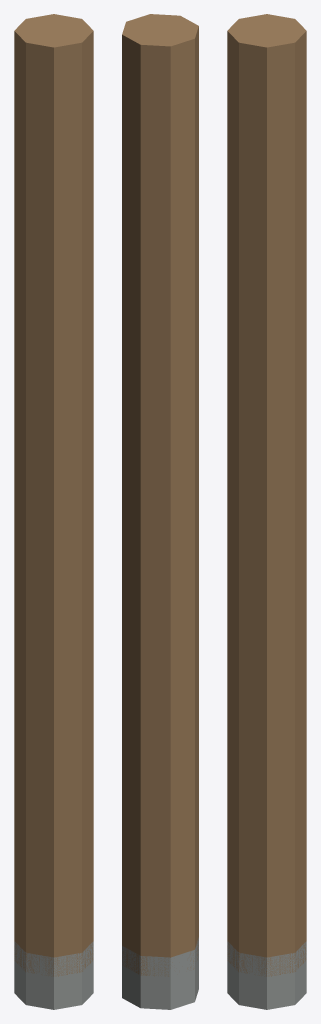
File: staff-demo.glb
The picture shows the model from 3 angles, left to right: view 1: azimuth 90°, elevation 25°; view 2: azimuth 150°, elevation 25°; view 3: azimuth 270°, elevation 25°; orthographic projection.
Visible parts, largest first — view 1: staff, metal tip; view 2: staff, metal tip; view 3: staff, metal tip.
Part boxes in pixels (x1,y1,x2,y2): staff: (14, 14, 93, 976); metal tip: (14, 941, 93, 1009); staff: (122, 14, 198, 976); metal tip: (122, 937, 198, 1009); staff: (227, 14, 306, 976); metal tip: (227, 941, 306, 1009).
Size of the model in its own units: 0.11 by 1.47 by 0.11.
